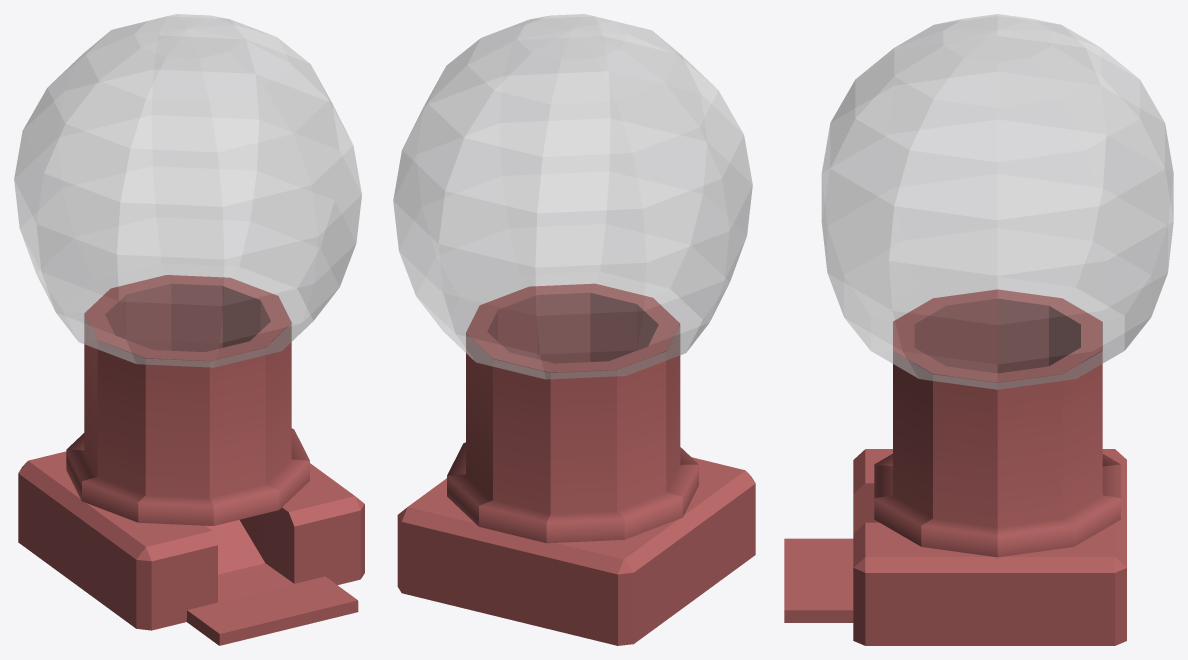
The model's file is O_Interactive_TreatsDispenser_1.fbx.
The picture shows the model from 3 angles, left to right: view 1: azimuth 30°, elevation 25°; view 2: azimuth 150°, elevation 25°; view 3: azimuth 270°, elevation 25°; orthographic projection. The views are drawn at different scales.
Parts seen in each view (by area): view 1: pCube2; view 2: pCube2; view 3: pCube2.
Part boxes in pixels (x1,y1,x2,y2): pCube2: (14,14,364,645); pCube2: (393,14,755,645); pCube2: (784,14,1173,645).
Bounding box in the file's own units: 5.35 × 8.89 × 5.63.
